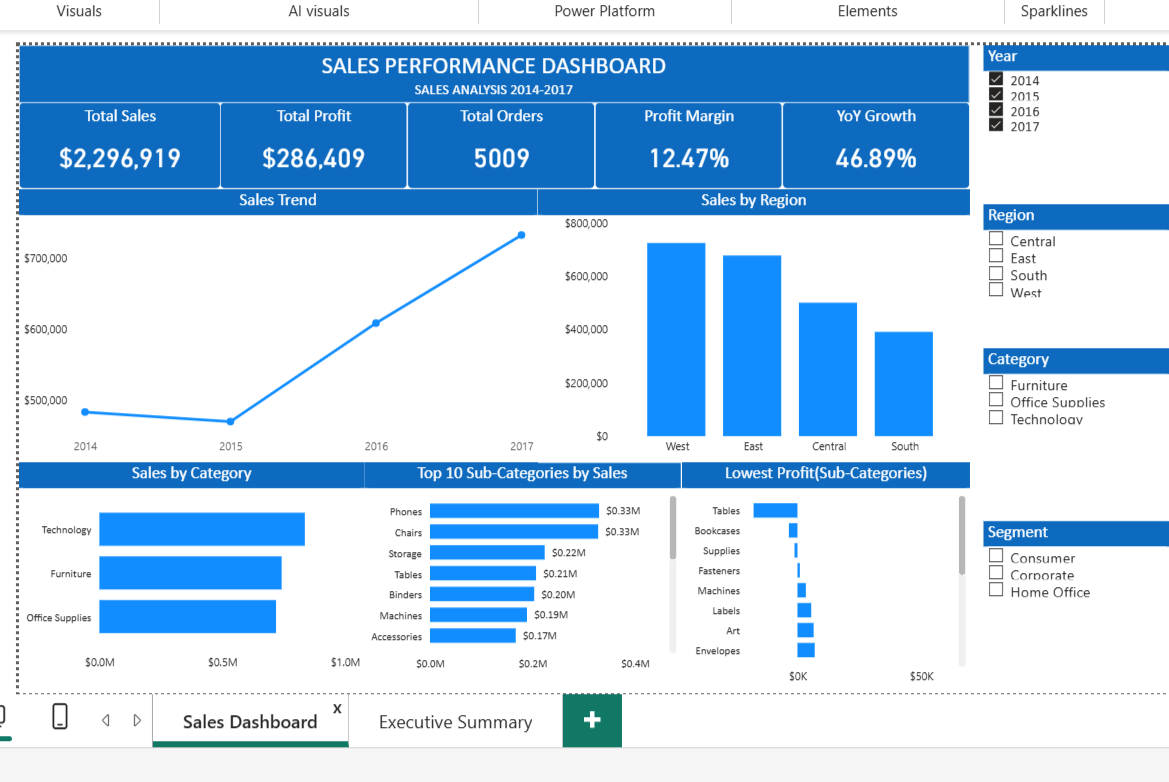

What the dashboard file says about the page in this screenshot:
{"tool":"powerbi","page":{"name":"Sales Dashboard","canvas":[1280,720],"ordinal":0},"visuals":[{"type":"textbox","box":[0,0,1056,64],"z":0},{"type":"card","title":"Total Sales","fields":{"Values":["Superstore_Sales_dataset_Raw1.Total Sales"]},"box":[0,64,224,96],"z":1000},{"type":"card","title":"Total Profit","fields":{"Values":["Superstore_Sales_dataset_Raw1.Total Profit"]},"box":[224,64,208,96],"z":2000},{"type":"card","title":"Total Orders","fields":{"Values":["Superstore_Sales_dataset_Raw1.Total Order"]},"box":[432,64,208,96],"z":3000},{"type":"card","title":"Profit Margin","fields":{"Values":["Superstore_Sales_dataset_Raw1.Profit Margin MS"]},"box":[640,64,208,96],"z":4000},{"type":"card","title":"YoY Growth ","fields":{"Values":["Superstore_Sales_dataset_Raw1.Growth Rate"]},"box":[848,64,208,96],"z":5000},{"type":"lineChart","title":"Sales Trend","fields":{"Y":["Superstore_Sales_dataset_Raw1.Total Sales"],"Category":["Date.Year","Date.Quarter","Date.Month Name"]},"box":[0,160,576,304],"z":6000},{"type":"clusteredBarChart","title":"Top 10 Sub-Categories by Sales","fields":{"Y":["Superstore_Sales_dataset_Raw1.Total Sales"],"Category":["Superstore_Sales_dataset_Raw1.Sub-Category"]},"box":[384,464,352,240],"z":6500},{"type":"clusteredColumnChart","title":"Sales by Region","fields":{"Category":["Superstore_Sales_dataset_Raw1.Region"],"Y":["Superstore_Sales_dataset_Raw1.Total Sales"]},"box":[576,160,480,304],"z":7000},{"type":"clusteredBarChart","title":"Sales by Category","fields":{"Category":["Superstore_Sales_dataset_Raw1.Category"],"Y":["Superstore_Sales_dataset_Raw1.Total Sales"]},"box":[0,464,384,240],"z":9000},{"type":"clusteredBarChart","title":"Lowest Profit(Sub-Categories)","fields":{"Y":["Superstore_Sales_dataset_Raw1.Total Profit"],"Category":["Superstore_Sales_dataset_Raw1.Sub-Category"]},"box":[736,464,320,256],"z":10000},{"type":"listSlicer","fields":{"Values":["Superstore_Sales_dataset_Raw1.Region"]},"box":[1072,176,208,192],"z":11000},{"type":"listSlicer","fields":{"Values":["Superstore_Sales_dataset_Raw1.Segment"]},"box":[1072,528,208,192],"z":12000},{"type":"listSlicer","fields":{"Values":["Date.Year"]},"box":[1072,0,208,176],"z":13000},{"type":"listSlicer","fields":{"Values":["Superstore_Sales_dataset_Raw1.Category"]},"box":[1072,336,208,192],"z":14000}]}

Visuals, with their boxes on the page's 1280x720 design canvas (x1, y1, x2, y2). These are canvas units, not pixel positions in the 1169x782 screenshot, which may show the page scaled, cropped or inside an application window:
textbox: x1=0, y1=0, x2=1056, y2=64
"Total Sales" card: x1=0, y1=64, x2=224, y2=160
"Total Profit" card: x1=224, y1=64, x2=432, y2=160
"Total Orders" card: x1=432, y1=64, x2=640, y2=160
"Profit Margin" card: x1=640, y1=64, x2=848, y2=160
"YoY Growth " card: x1=848, y1=64, x2=1056, y2=160
"Sales Trend" lineChart: x1=0, y1=160, x2=576, y2=464
"Top 10 Sub-Categories by Sales" clusteredBarChart: x1=384, y1=464, x2=736, y2=704
"Sales by Region" clusteredColumnChart: x1=576, y1=160, x2=1056, y2=464
"Sales by Category" clusteredBarChart: x1=0, y1=464, x2=384, y2=704
"Lowest Profit(Sub-Categories)" clusteredBarChart: x1=736, y1=464, x2=1056, y2=720
listSlicer - Superstore_Sales_dataset_Raw1.Region: x1=1072, y1=176, x2=1280, y2=368
listSlicer - Superstore_Sales_dataset_Raw1.Segment: x1=1072, y1=528, x2=1280, y2=720
listSlicer - Date.Year: x1=1072, y1=0, x2=1280, y2=176
listSlicer - Superstore_Sales_dataset_Raw1.Category: x1=1072, y1=336, x2=1280, y2=528
